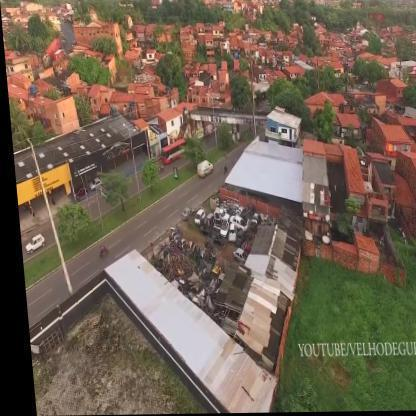lixo: (158, 240, 218, 304), (194, 194, 256, 251)
